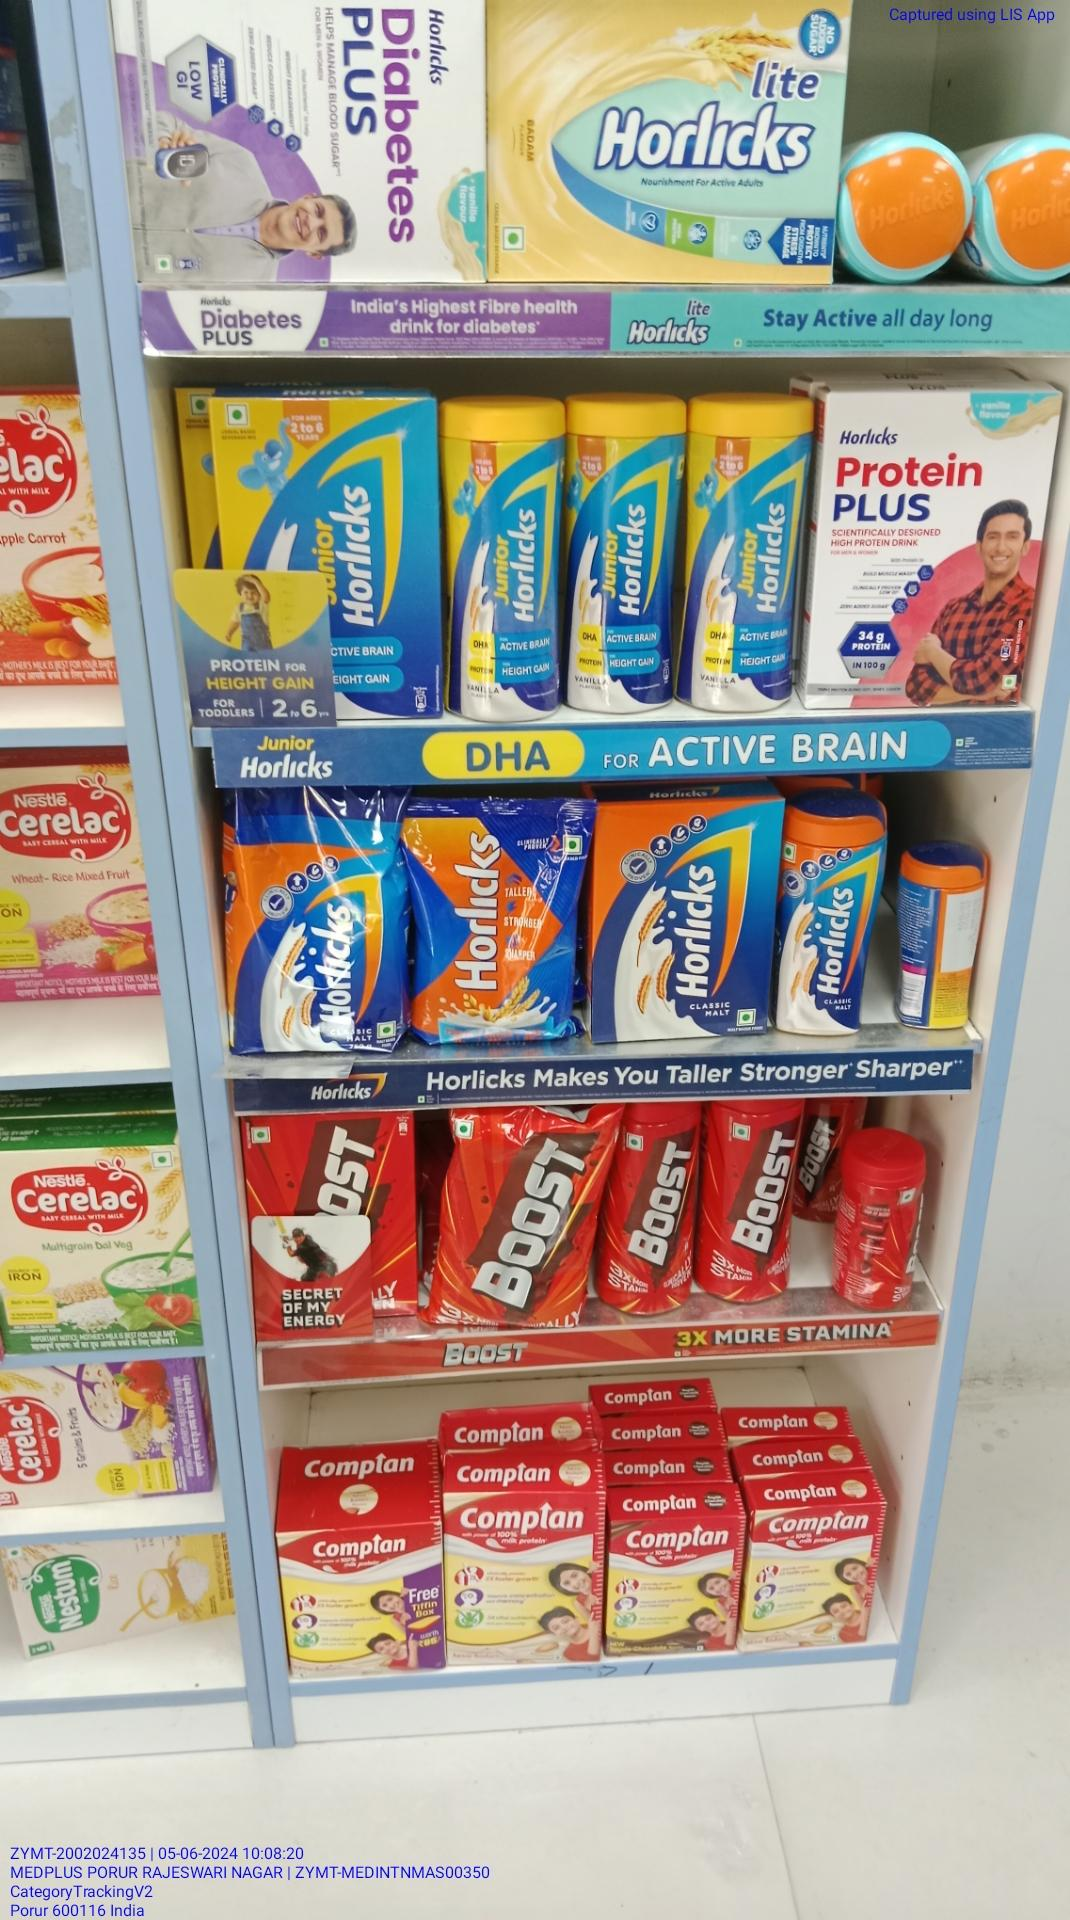COMPLAN_CHOCOLATE_200_GMS_PACK: (607, 1521, 737, 1655)
COMPLAN_KESAR_BADAM_200_GMS_PACK: (745, 1508, 870, 1649)
COMPLAN_KESAR_BADAM_500_GMS_PACK: (447, 1493, 604, 1660), (281, 1534, 443, 1671)
HORLICKS_JUNIOR_VANILLA_500_GM_JAR: (685, 398, 806, 710), (445, 407, 563, 723), (569, 398, 679, 709)
HORLICK_CLASSIC_MALT_500_G_JAR: (784, 800, 860, 1031)
HORLICK_CLASSIC_MALT_500_G_PACK: (596, 804, 770, 1032)
